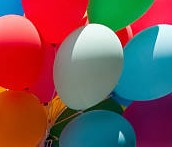Balloon: (53, 25, 123, 111), (119, 25, 172, 101), (1, 15, 41, 92), (59, 109, 136, 147), (1, 89, 44, 145)
